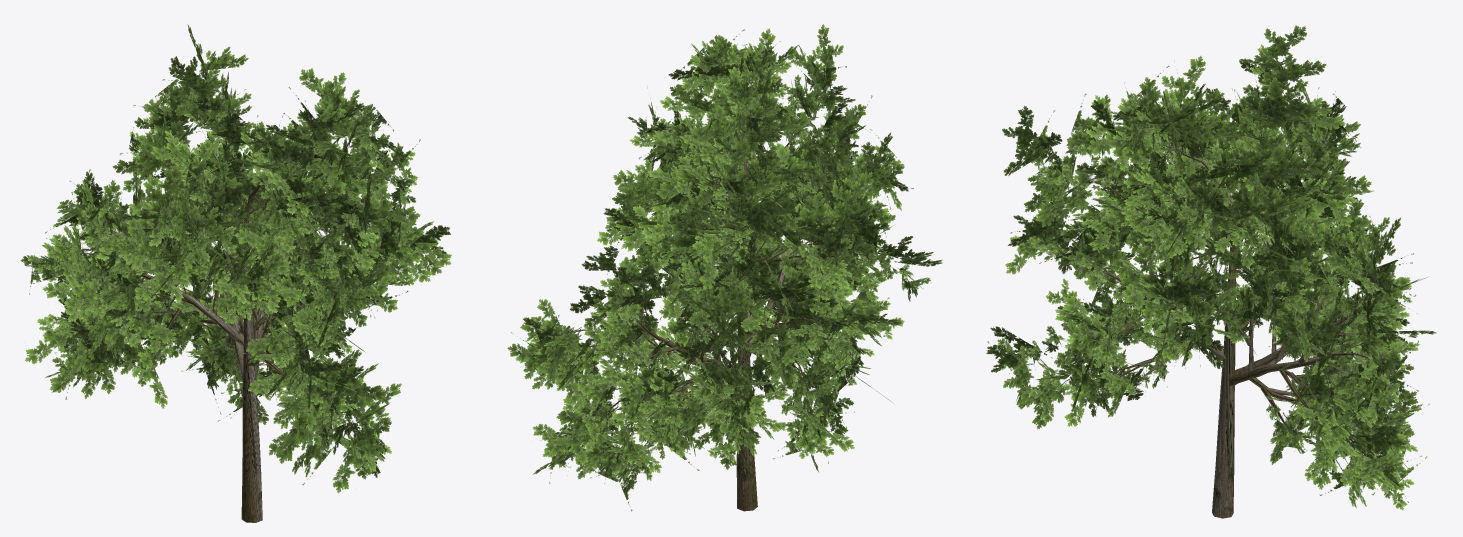
Rendered from Tree_Medium_A.glb.
3 renders of one model, left to right at view 1: azimuth 30°, elevation 25°; view 2: azimuth 150°, elevation 25°; view 3: azimuth 270°, elevation 25°, orthographic. The views are drawn at different scales.
Parts seen in each view (by area): view 1: Tree_Medium_A; view 2: Tree_Medium_A; view 3: Tree_Medium_A.
Part boxes in pixels (x1,y1,x2,y2): Tree_Medium_A: (20, 24, 451, 522); Tree_Medium_A: (507, 24, 942, 511); Tree_Medium_A: (986, 25, 1436, 518).
Bounding box in the file's own units: 5.22 × 6 × 5.31.
2 materials, 2 textured.
